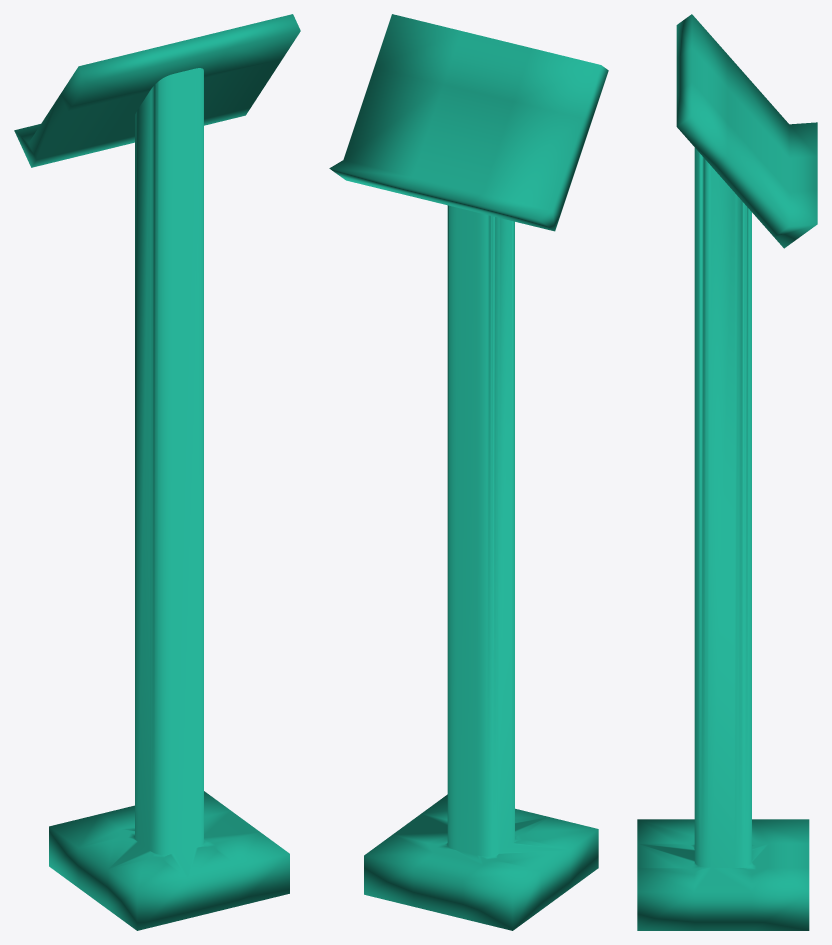
File: lectern_01.obj
3 views of the same model, side by side, from view 1: azimuth 30°, elevation 25°; view 2: azimuth 150°, elevation 25°; view 3: azimuth 270°, elevation 25° (orthographic). The views are drawn at different scales.
Visible parts, largest first — view 1: Box001, Box002; view 2: Box001, Box002; view 3: Box001, Box002.
Part boxes in pixels (<box>): Box001: <box>49,68,289,930</box>; Box002: <box>14,14,300,167</box>; Box001: <box>364,205,598,930</box>; Box002: <box>329,14,608,231</box>; Box001: <box>637,147,809,930</box>; Box002: <box>676,14,817,248</box>.
Size of the model in its own units: 28.08 by 107 by 20.99.
